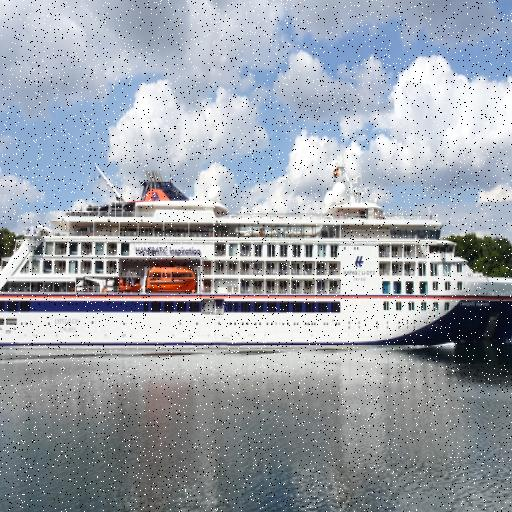cruises: (1, 163, 512, 359)
